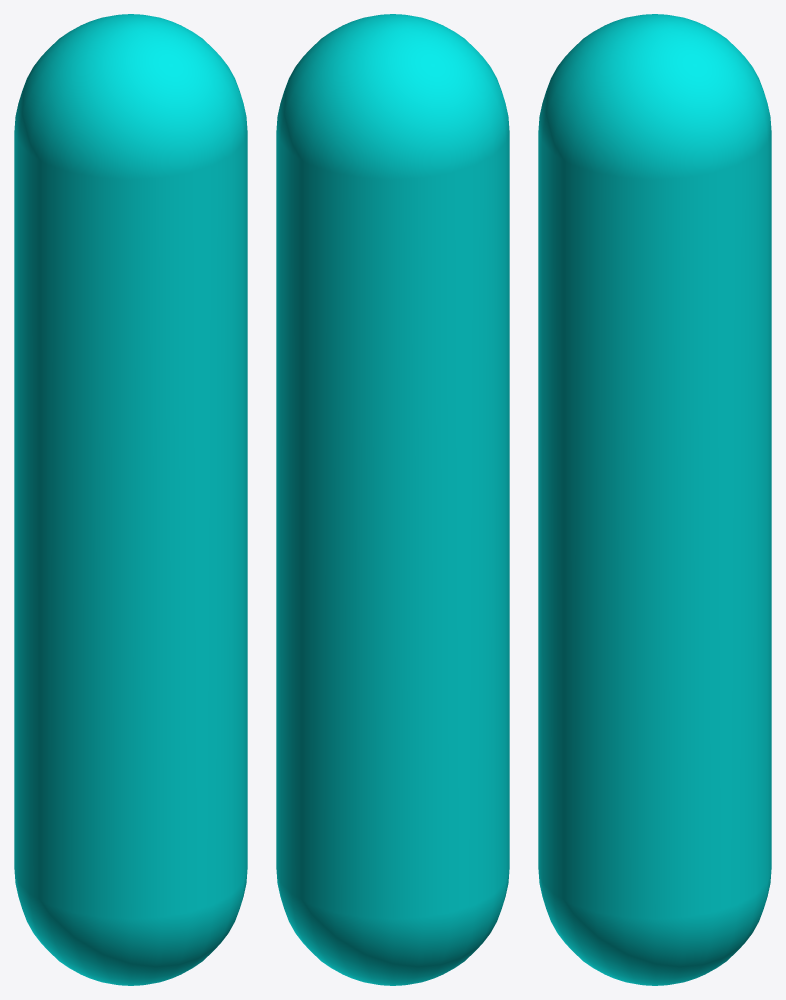
Rendered from agent_capsule_grp.fbx.
3 renders of one model, left to right at view 1: azimuth 30°, elevation 25°; view 2: azimuth 150°, elevation 25°; view 3: azimuth 270°, elevation 25°, orthographic.
Parts seen in each view (by area): view 1: FPS_Capsule; view 2: FPS_Capsule; view 3: FPS_Capsule.
Boxes of the visible parts, x1=… form: FPS_Capsule: x1=14, y1=14, x2=247, y2=985; FPS_Capsule: x1=276, y1=14, x2=509, y2=985; FPS_Capsule: x1=538, y1=14, x2=771, y2=985.
Bounding box in the file's own units: 40 × 180 × 40.
